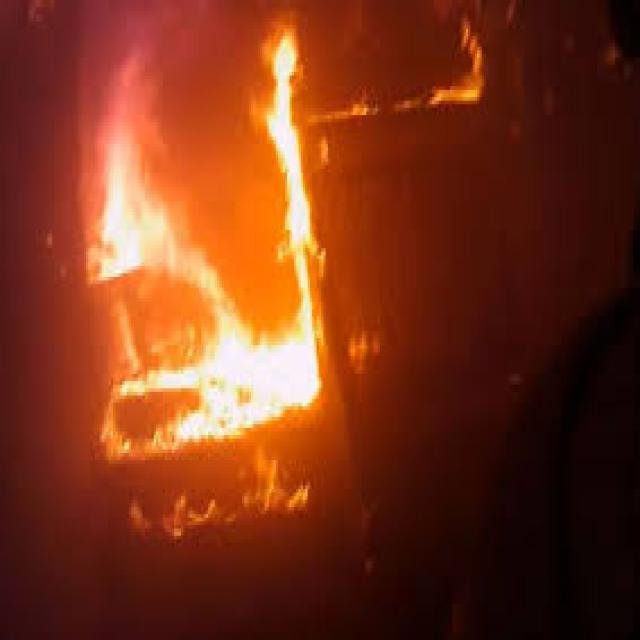fire: (65, 80, 363, 469)
